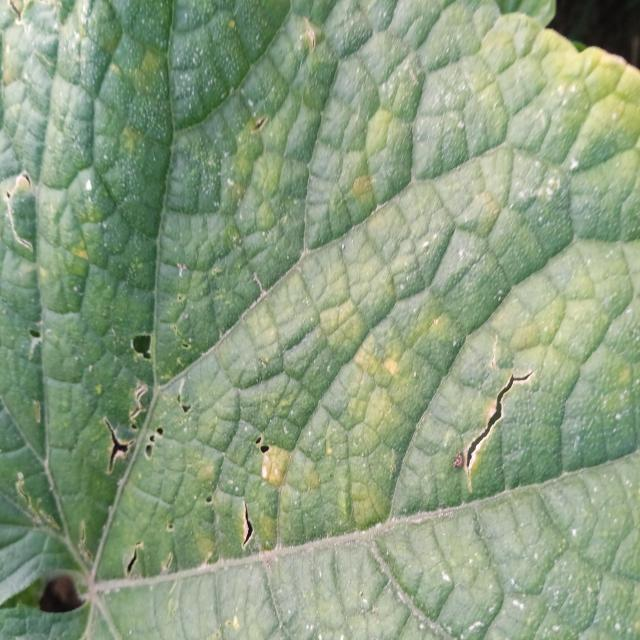cucumber_downy: (3, 3, 640, 640)
